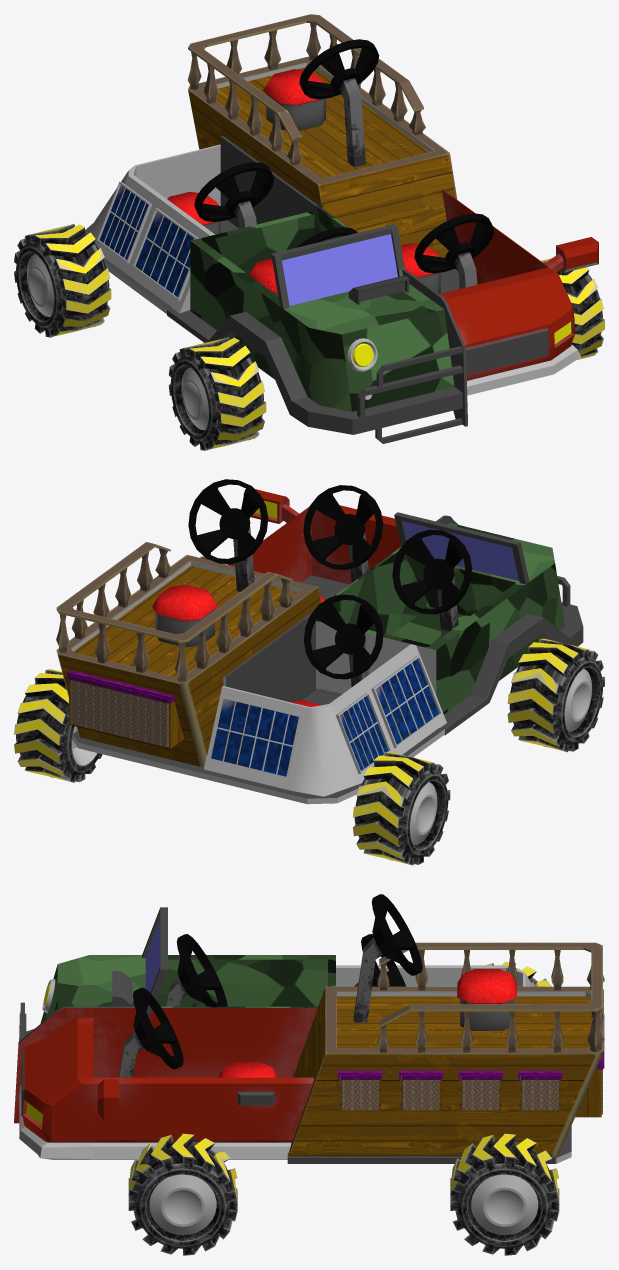
Rendered from SM Car.fbx.
3 renders of one model, top to bottom at view 1: azimuth 30°, elevation 25°; view 2: azimuth 150°, elevation 25°; view 3: azimuth 270°, elevation 25°, orthographic. The views are drawn at different scales.
Parts seen in each view (by area): view 1: polySurface92, RB_Wheel, RF_Wheel, SteeringWheel (×3), Seat (×4), polySurface87, LF_Wheel, polySurface90, steerBace (×2); view 2: polySurface92, SteeringWheel (×4), RF_Wheel, RB_Wheel, LB_Wheel, polySurface87, Seat, polySurface90, steerBace; view 3: polySurface92, LF_Wheel, LB_Wheel, SteeringWheel (×4), Seat (×2), steerBace (×2), polySurface93, polySurface94, polySurface91, polySurface80.
Part boxes in pixels (left/top/right/bottom): polySurface92: left=85, top=14, right=598, bottom=443; RB_Wheel: left=14, top=223, right=111, bottom=337; RF_Wheel: left=168, top=337, right=266, bottom=450; SteeringWheel (×3): left=194, top=39, right=493, bottom=273; Seat (×4): left=167, top=69, right=440, bottom=295; polySurface87: left=132, top=208, right=198, bottom=300; LF_Wheel: left=541, top=258, right=604, bottom=359; polySurface90: left=96, top=181, right=152, bottom=263; steerBace (×2): left=339, top=78, right=477, bottom=288; polySurface92: left=56, top=489, right=583, bottom=804; SteeringWheel (×4): left=188, top=479, right=472, bottom=679; RF_Wheel: left=507, top=638, right=604, bottom=752; RB_Wheel: left=352, top=751, right=450, bottom=865; LB_Wheel: left=14, top=669, right=102, bottom=782; polySurface87: left=371, top=655, right=442, bottom=747; Seat: left=152, top=585, right=218, bottom=647; polySurface90: left=335, top=692, right=391, bottom=773; steerBace: left=233, top=526, right=254, bottom=591; polySurface92: left=14, top=907, right=604, bottom=1163; LF_Wheel: left=128, top=1133, right=237, bottom=1255; LB_Wheel: left=450, top=1133, right=559, bottom=1255; SteeringWheel (×4): left=133, top=894, right=422, bottom=1069; Seat (×2): left=218, top=969, right=516, bottom=1077; steerBace (×2): left=118, top=937, right=382, bottom=1077; polySurface93: left=458, top=1070, right=502, bottom=1111; polySurface94: left=518, top=1070, right=562, bottom=1111; polySurface91: left=399, top=1070, right=442, bottom=1111; polySurface80: left=586, top=1010, right=604, bottom=1052.
Size of the model in its own units: 474 by 321 by 597.
